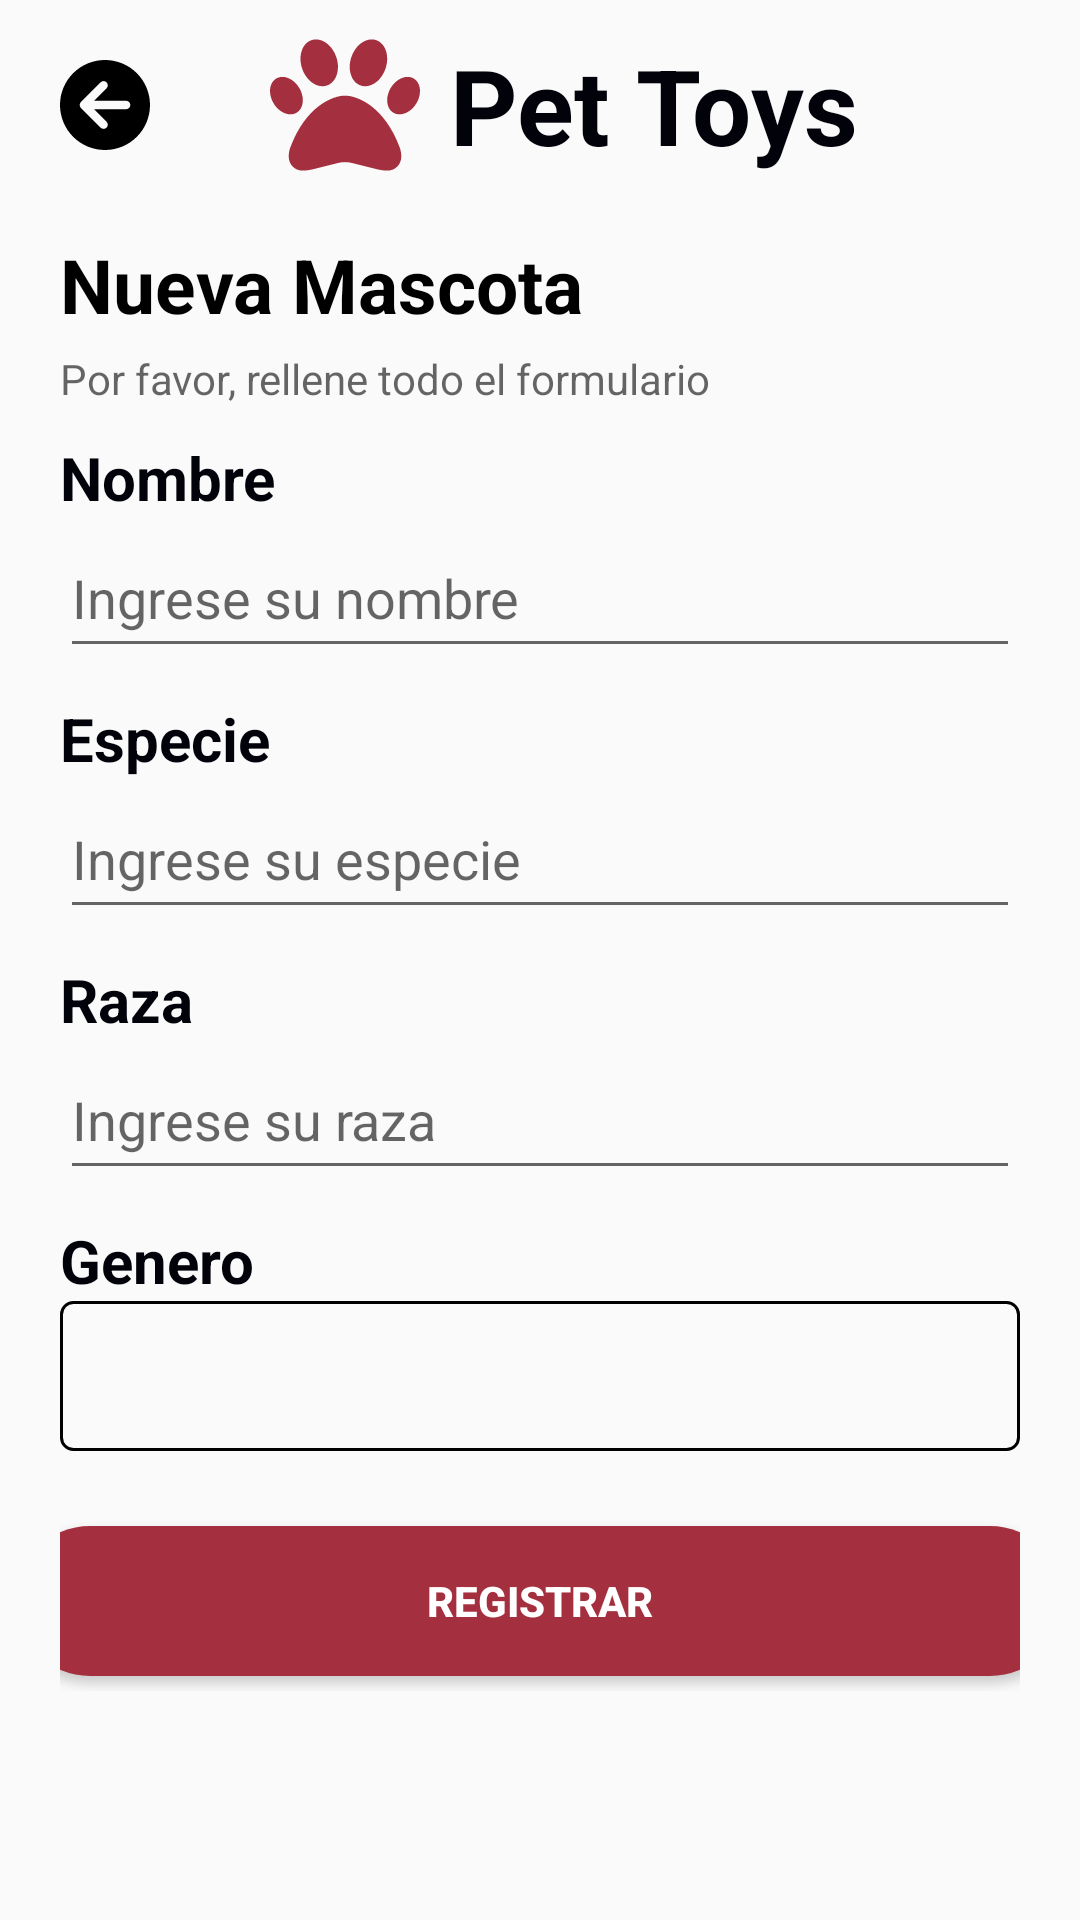

Icon click points for this 1080×1920 phone screenshot, format point (x, y):
paw: point (345, 105)
